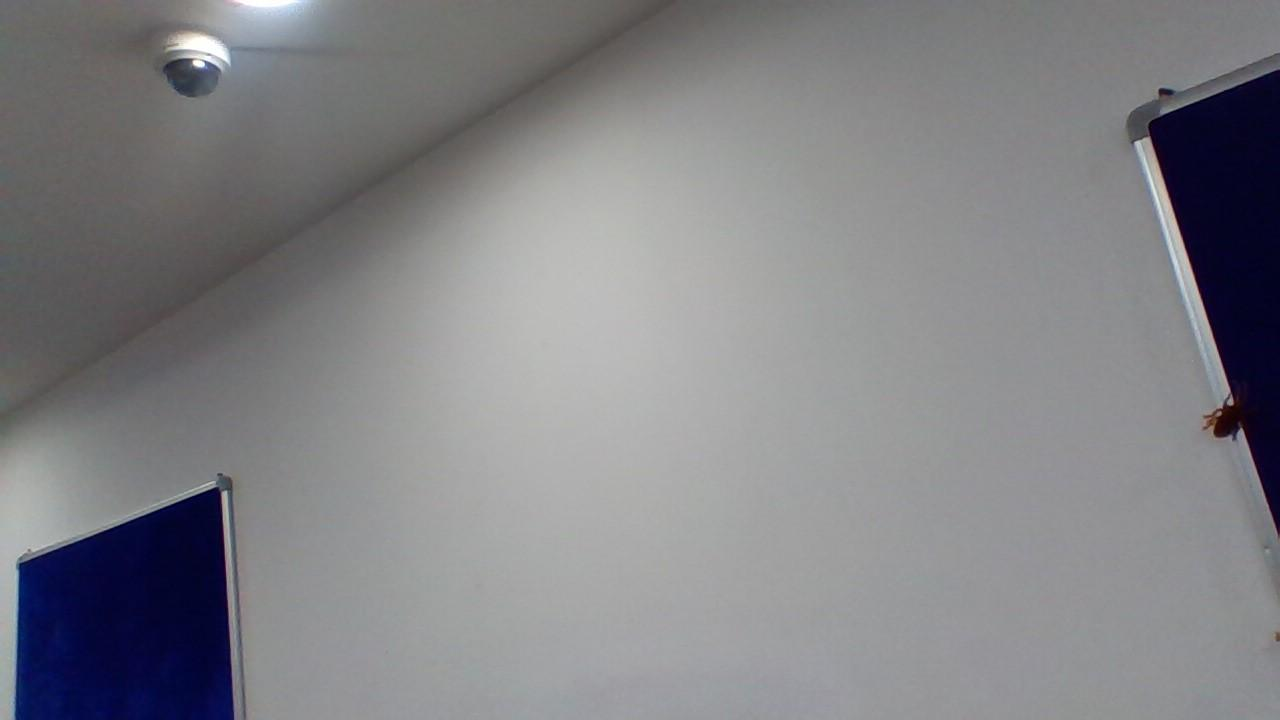cockroach: (1197, 383, 1253, 447)
